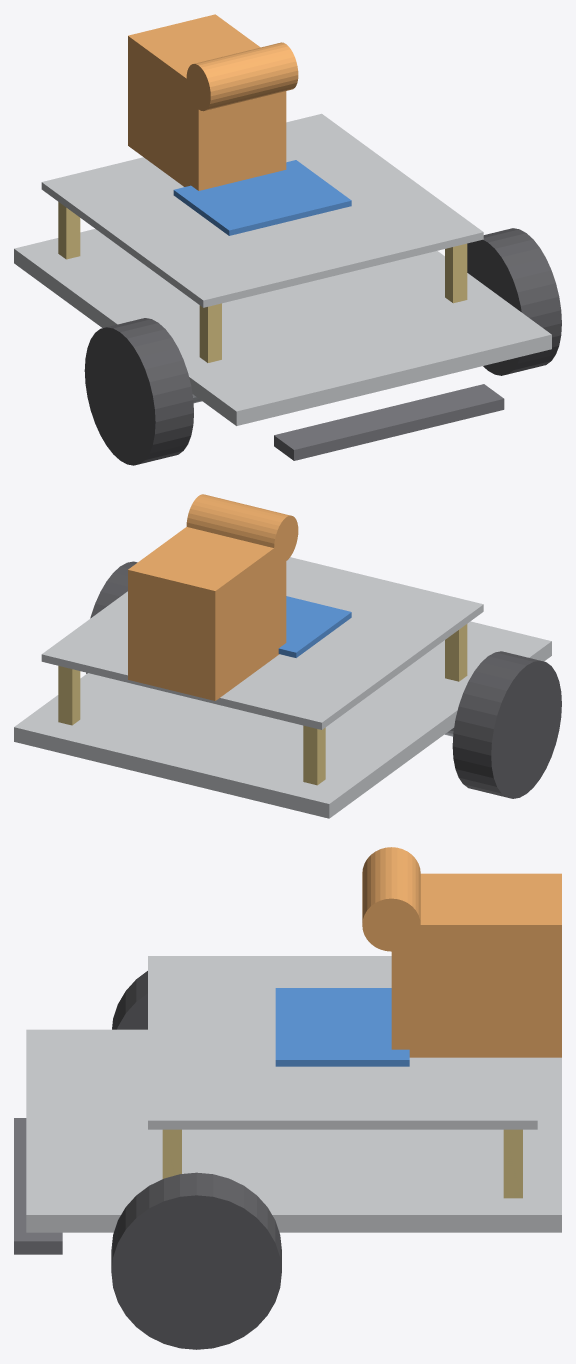
The model's file is delivery-robot.glb.
3 renders of one model, top to bottom at view 1: azimuth 30°, elevation 25°; view 2: azimuth 150°, elevation 25°; view 3: azimuth 270°, elevation 25°, orthographic. The views are drawn at different scales.
Parts seen in each view (by area): view 1: Chassis, ShooterHousing, Wheels, MotorShield, SensorBar, Standoffs; view 2: Chassis, ShooterHousing, Wheels, Standoffs, MotorShield; view 3: Chassis, ShooterHousing, Wheels, MotorShield, SensorBar, Standoffs.
Boxes of the visible parts, bbox=[...] form: Chassis: bbox=[14, 113, 551, 425]; ShooterHousing: bbox=[128, 14, 298, 190]; Wheels: bbox=[84, 228, 561, 465]; MotorShield: bbox=[173, 160, 351, 235]; SensorBar: bbox=[274, 384, 504, 460]; Standoffs: bbox=[58, 202, 467, 362]; Chassis: bbox=[14, 557, 551, 818]; ShooterHousing: bbox=[128, 494, 298, 700]; Wheels: bbox=[86, 561, 561, 798]; Standoffs: bbox=[58, 624, 467, 785]; MotorShield: bbox=[278, 596, 351, 657]; Chassis: bbox=[26, 956, 561, 1232]; ShooterHousing: bbox=[362, 847, 561, 1057]; Wheels: bbox=[111, 971, 281, 1349]; MotorShield: bbox=[275, 988, 409, 1066]; SensorBar: bbox=[14, 1118, 62, 1254]; Standoffs: bbox=[162, 1129, 522, 1198].
Bounding box in the file's own units: 0.232 × 0.162 × 0.225.
